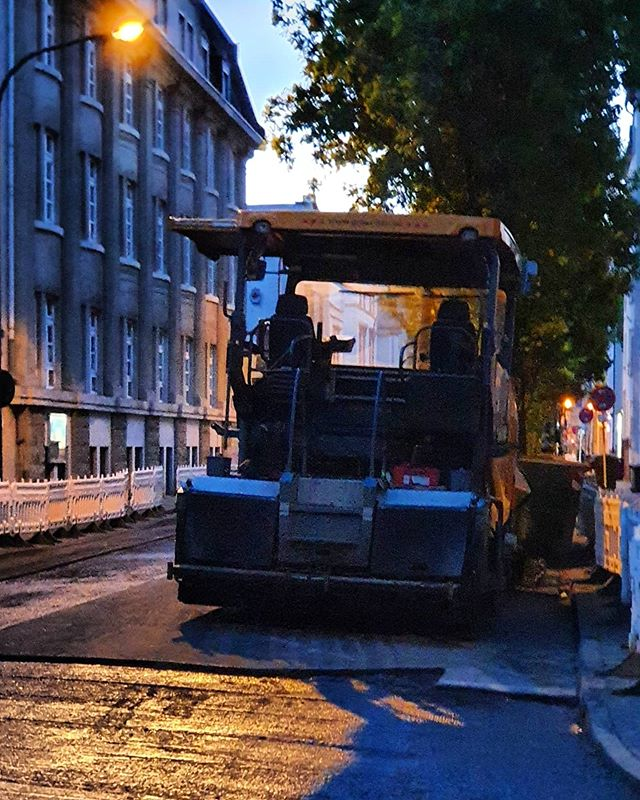building: (1, 3, 265, 527)
tractor: (179, 194, 544, 635)
tree: (315, 1, 640, 211)
